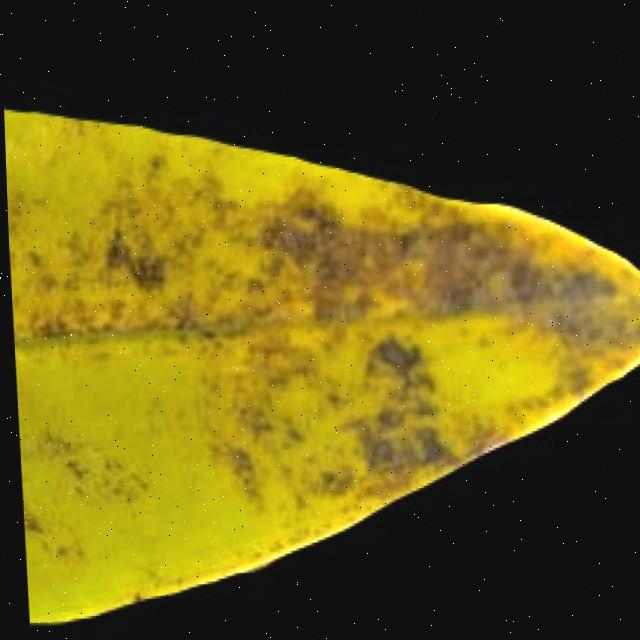mite: (257, 186, 451, 486), (358, 334, 437, 397), (374, 337, 421, 373), (358, 431, 398, 473), (128, 252, 168, 289), (372, 403, 406, 432), (61, 455, 90, 482), (24, 246, 48, 269)
spots: (3, 81, 640, 630)
